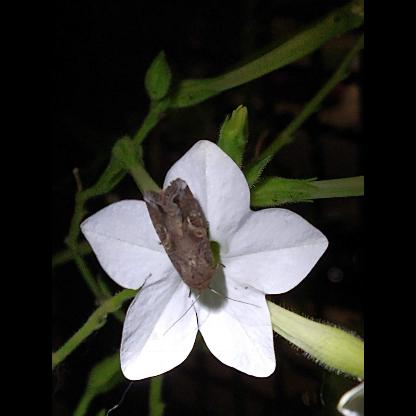Fall Armyworm Moth: (141, 176, 262, 338)
